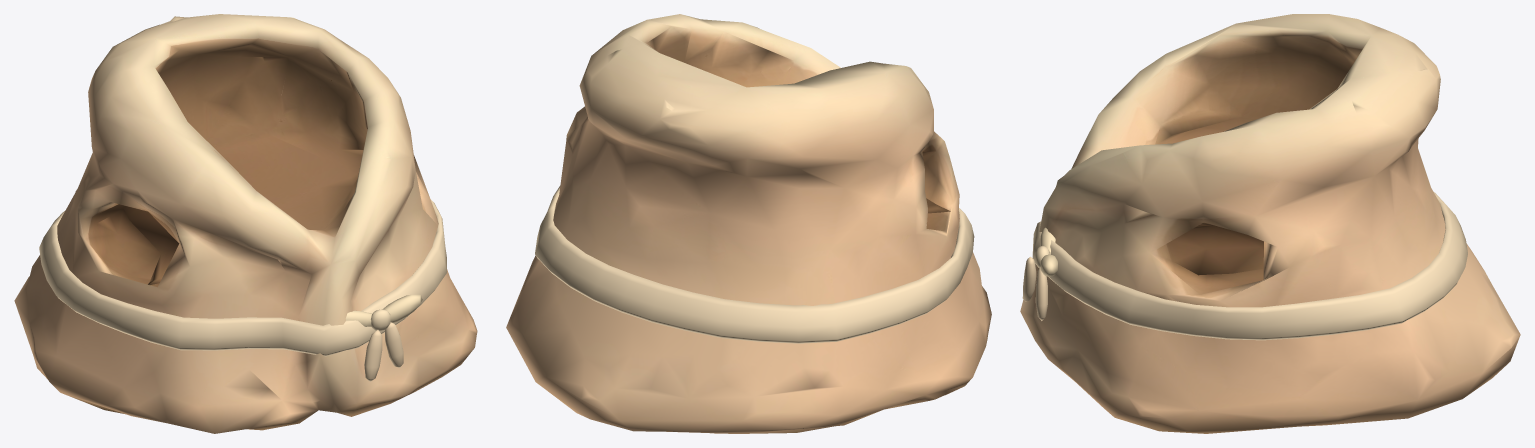
Rendered from spa-body.glb.
3 views of the same model, side by side, from view 1: azimuth 30°, elevation 25°; view 2: azimuth 150°, elevation 25°; view 3: azimuth 270°, elevation 25° (orthographic). The views are drawn at different scales.
Visible parts, largest first — view 1: tripo_node_fc811028; view 2: tripo_node_fc811028; view 3: tripo_node_fc811028.
Boxes of the visible parts, bbox=[...] form: tripo_node_fc811028: bbox=[14, 14, 477, 433]; tripo_node_fc811028: bbox=[506, 14, 991, 433]; tripo_node_fc811028: bbox=[1020, 14, 1520, 433].
Size of the model in its own units: 0.5747 by 0.4123 by 0.6174.
1 material, 1 textured.
